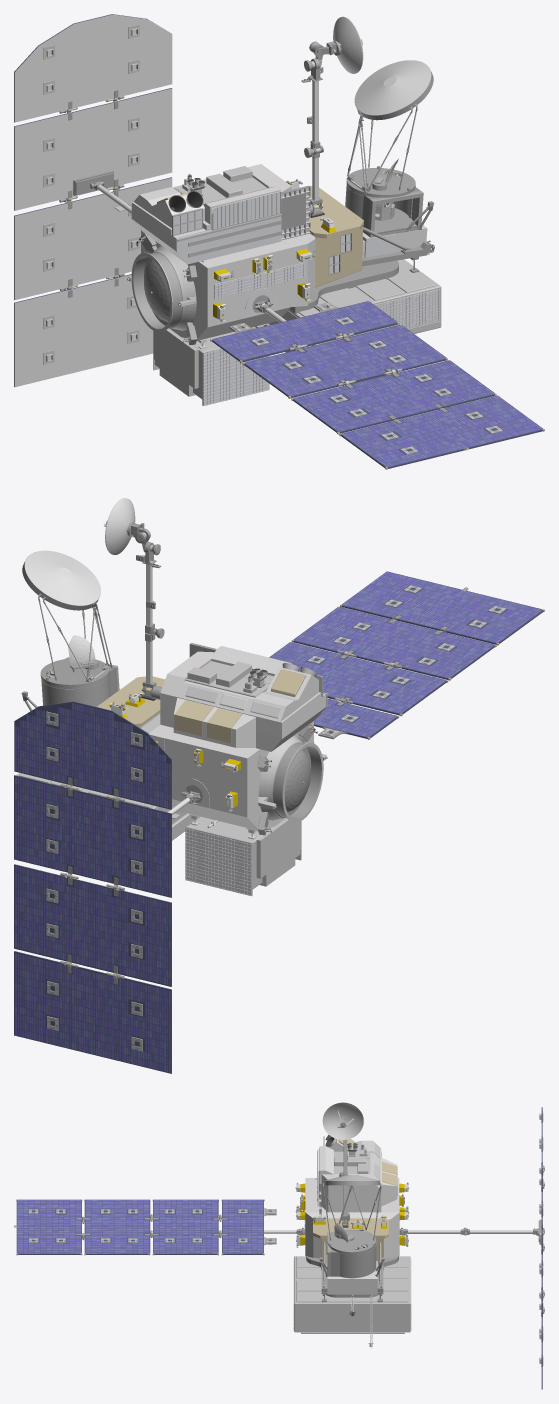
The model's file is Global_Precipitation_Measurement.glb.
The picture shows the model from 3 angles, top to bottom: view 1: azimuth 30°, elevation 25°; view 2: azimuth 150°, elevation 25°; view 3: azimuth 270°, elevation 25°; orthographic projection. The views are drawn at different scales.
Parts seen in each view (by area): view 1: GPM-MainBus; view 2: GPM-MainBus; view 3: GPM-MainBus.
Boxes of the visible parts, x1,y1,x2,y2 form: GPM-MainBus: (14, 14, 544, 469); GPM-MainBus: (14, 498, 544, 1073); GPM-MainBus: (14, 1102, 544, 1389).
Bounding box in the file's own units: 190 × 268 × 432.
